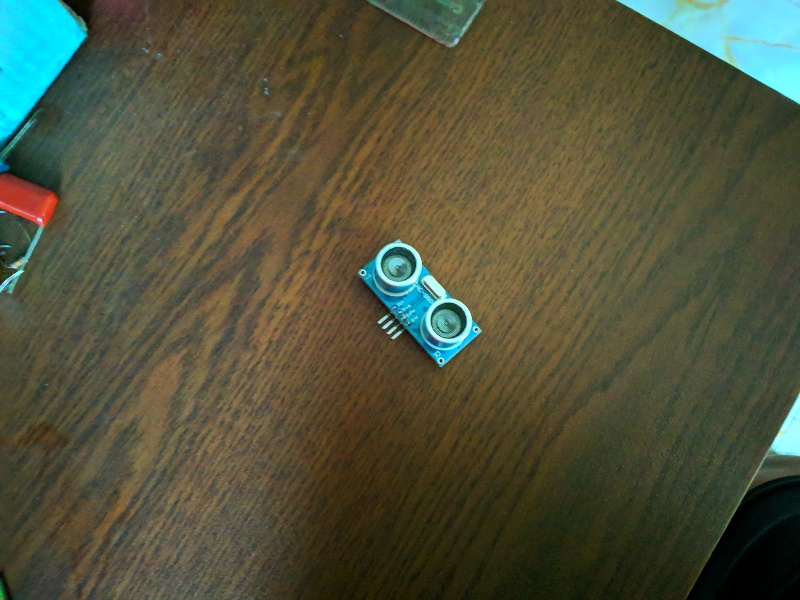Sonar Sensor: (350, 233, 490, 372)
